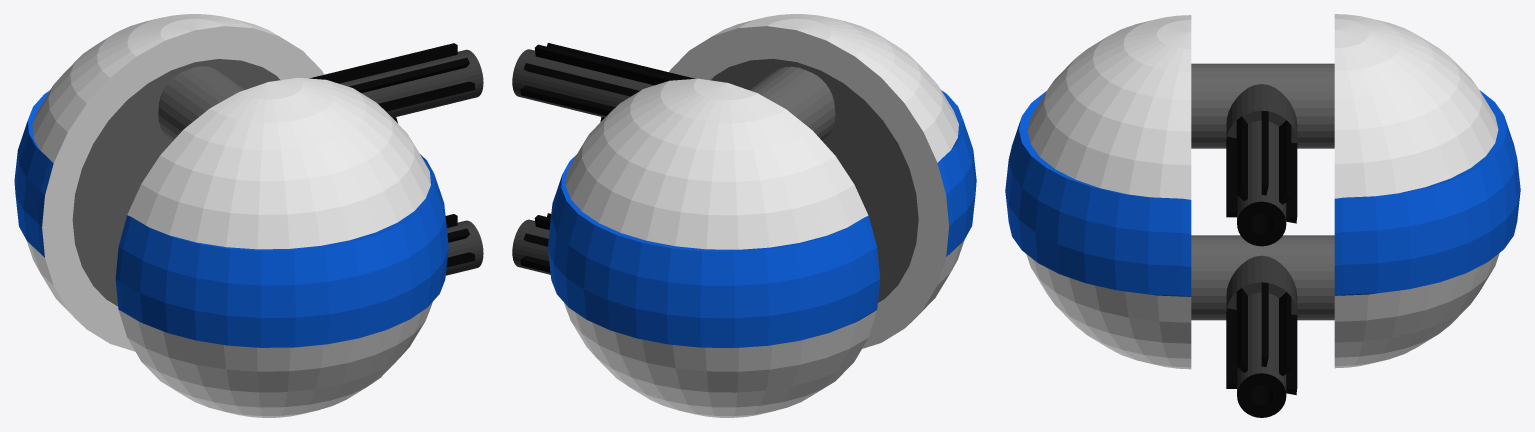
Rendered from Torre Baixa B.fbx.
3 renders of one model, left to right at view 1: azimuth 30°, elevation 25°; view 2: azimuth 150°, elevation 25°; view 3: azimuth 270°, elevation 25°, orthographic.
Visible parts, largest first — view 1: Corpo; view 2: Corpo; view 3: Corpo.
Part boxes in pixels (box(x1,y1,x2,y2)): Corpo: box(14, 14, 483, 417); Corpo: box(512, 14, 976, 417); Corpo: box(1005, 14, 1520, 417).
Bounding box in the file's own units: 257 × 200 × 291.
